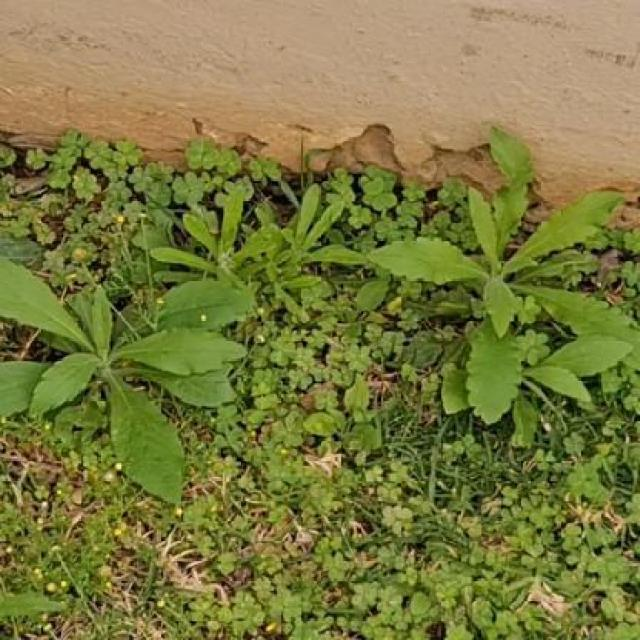weed: (0, 129, 640, 504)
